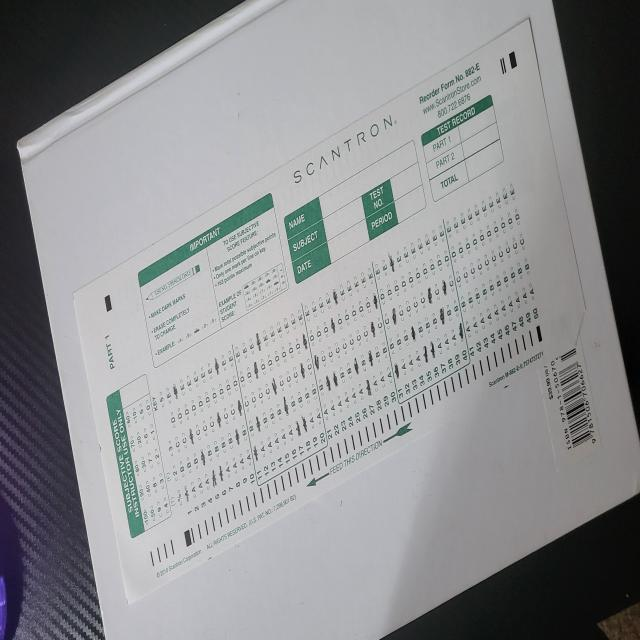scantron: (73, 15, 586, 607)
